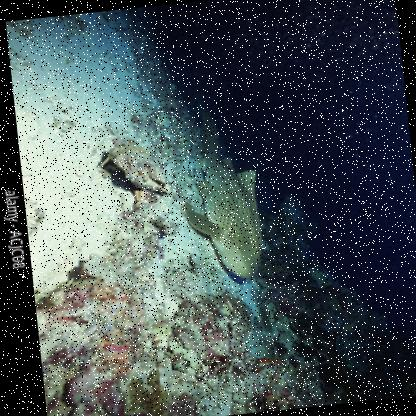zebra_shark: (161, 72, 302, 290)
